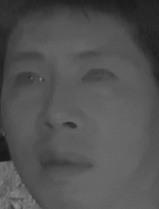eye: (80, 65, 117, 87), (10, 69, 47, 90)
mouth: (34, 145, 96, 182)
